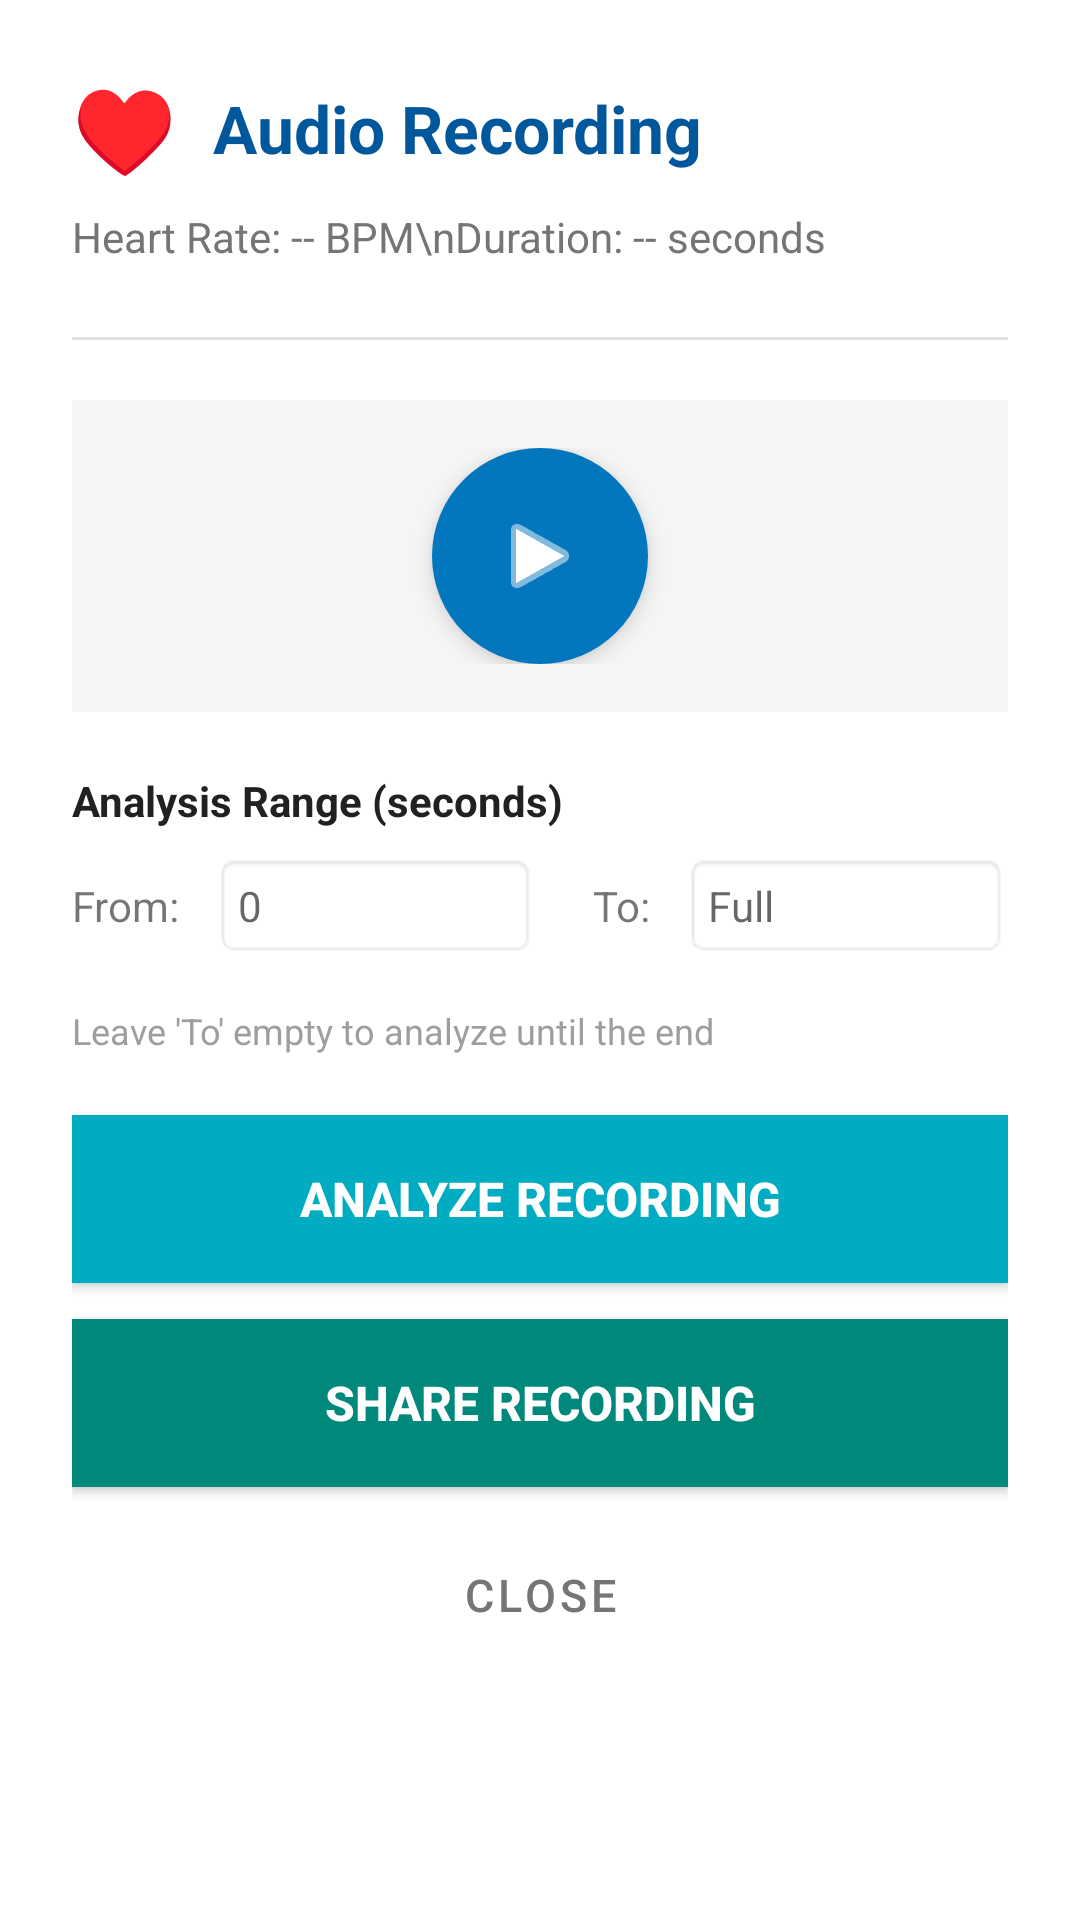

Named icons in this screenshot (1080x1920) and their bounding boxes, BBox(x1, y1, x2, y2):
Play/Pause: BBox(432, 448, 648, 664)
